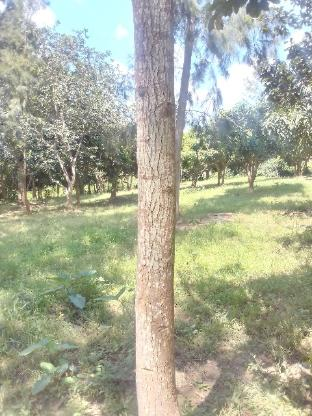tree: (121, 0, 186, 416)
